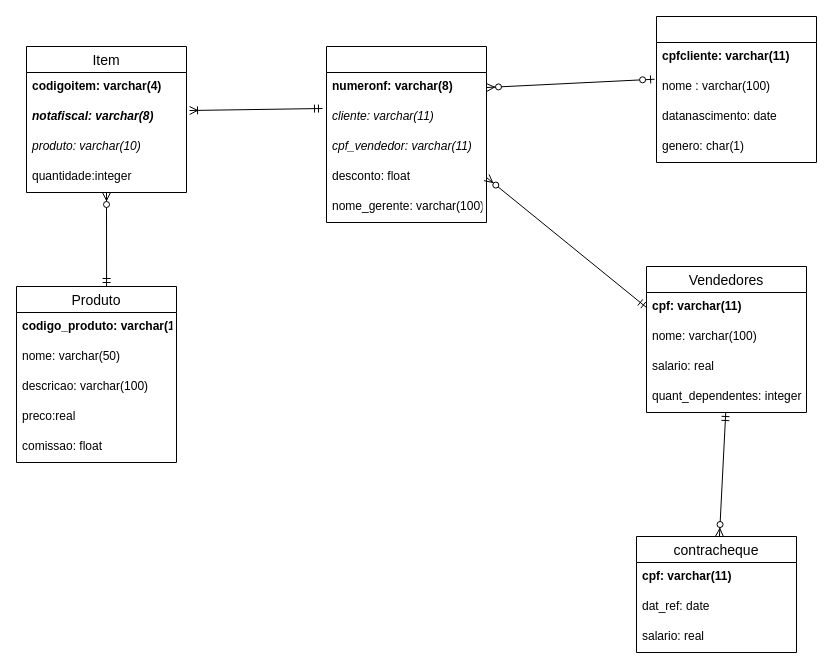
The diagram is 833 pixels wide and 669 high, and some of its shapes have lost their labels. Here are the shapes that lost their labels. From the top down, the box of each, then its label:
(656, 16, 816, 162): Clientes
(326, 46, 486, 222): NotaFiscal
